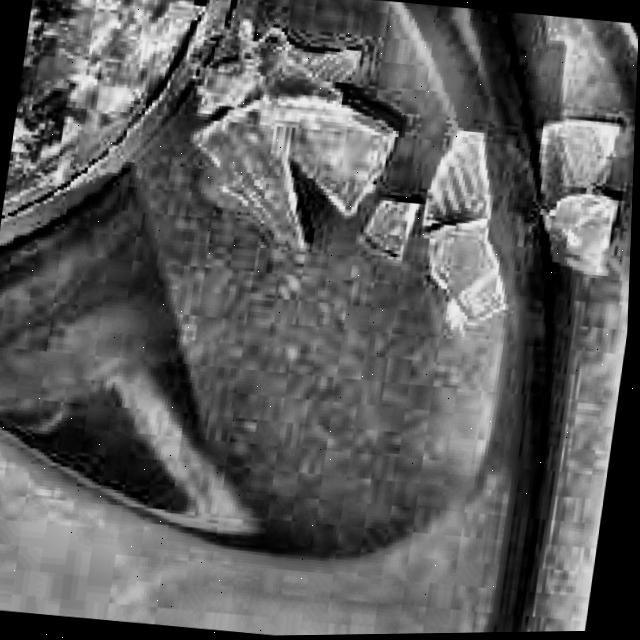head_lamp: (9, 0, 186, 175)
